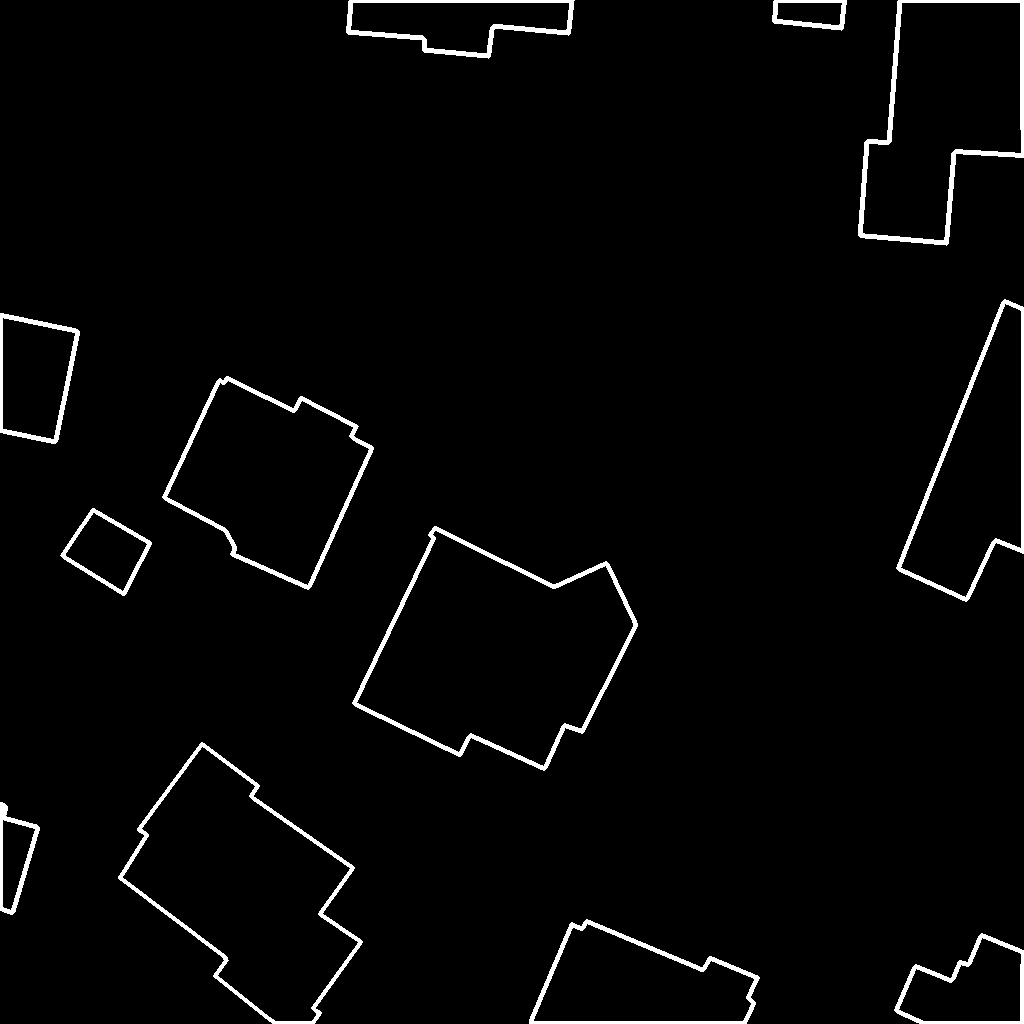building: (354, 528, 637, 770), (120, 744, 362, 1024), (164, 378, 373, 589), (860, 0, 1024, 244), (898, 301, 1024, 601), (531, 921, 759, 1024), (348, 0, 573, 57), (896, 935, 1024, 1024), (0, 315, 79, 443), (62, 510, 151, 595), (0, 804, 39, 914), (774, 0, 846, 29)
